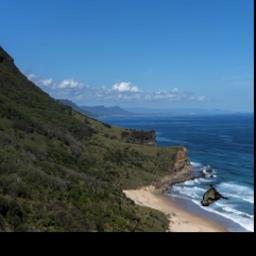Sparrow: (201, 183, 231, 206)
